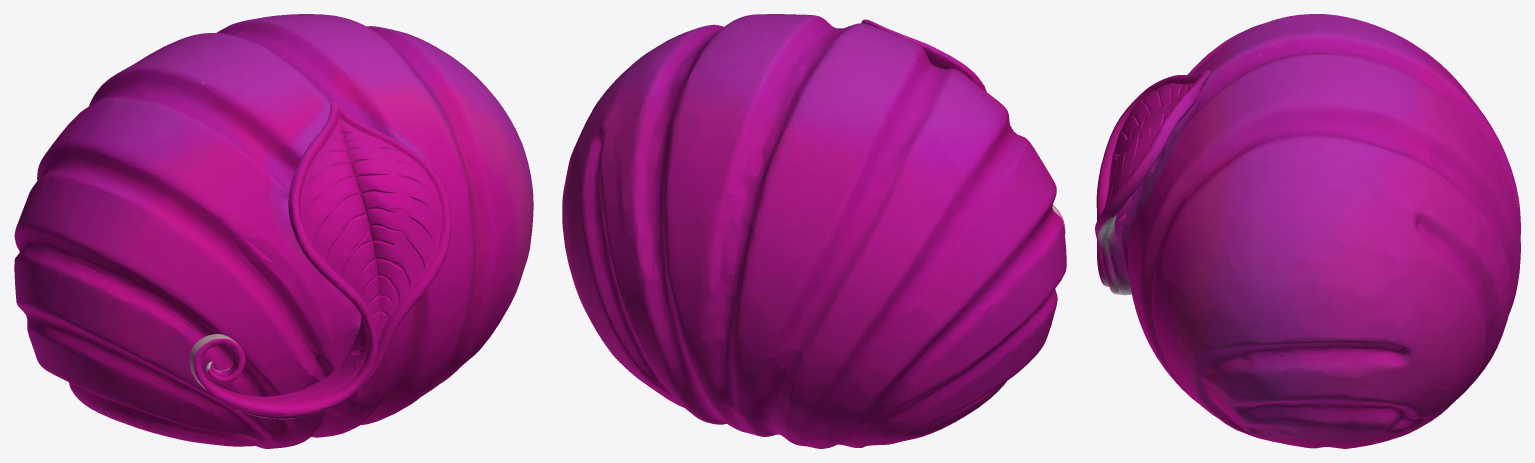
Rendered from night-sky-v1.glb.
The picture shows the model from 3 angles, left to right: view 1: azimuth 30°, elevation 25°; view 2: azimuth 150°, elevation 25°; view 3: azimuth 270°, elevation 25°; orthographic projection. The views are drawn at different scales.
Bounding box in the file's own units: 1.9 × 1.51 × 1.57.
1 material, 1 textured.
